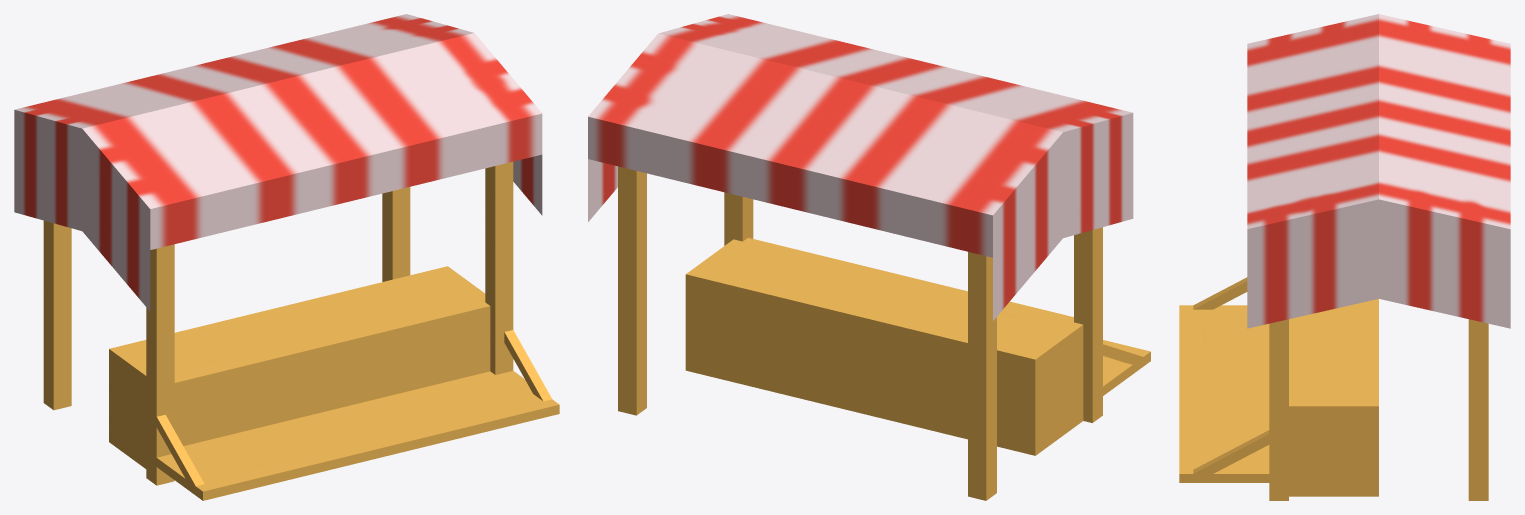
File: Shop.fbx
3 renders of one model, left to right at view 1: azimuth 30°, elevation 25°; view 2: azimuth 150°, elevation 25°; view 3: azimuth 270°, elevation 25°, orthographic. The views are drawn at different scales.
Parts seen in each view (by area): view 1: Cube; view 2: Cube; view 3: Cube.
Boxes of the visible parts, x1,y1,x2,y2 form: Cube: [14, 14, 559, 500]; Cube: [588, 14, 1150, 500]; Cube: [1179, 14, 1510, 500].
Bounding box in the file's own units: 440 × 343 × 332.
